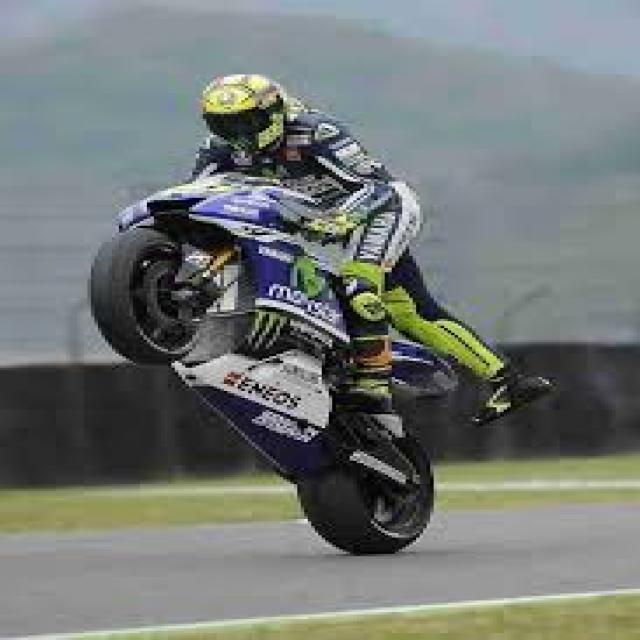Wheeling: (71, 34, 499, 569)
